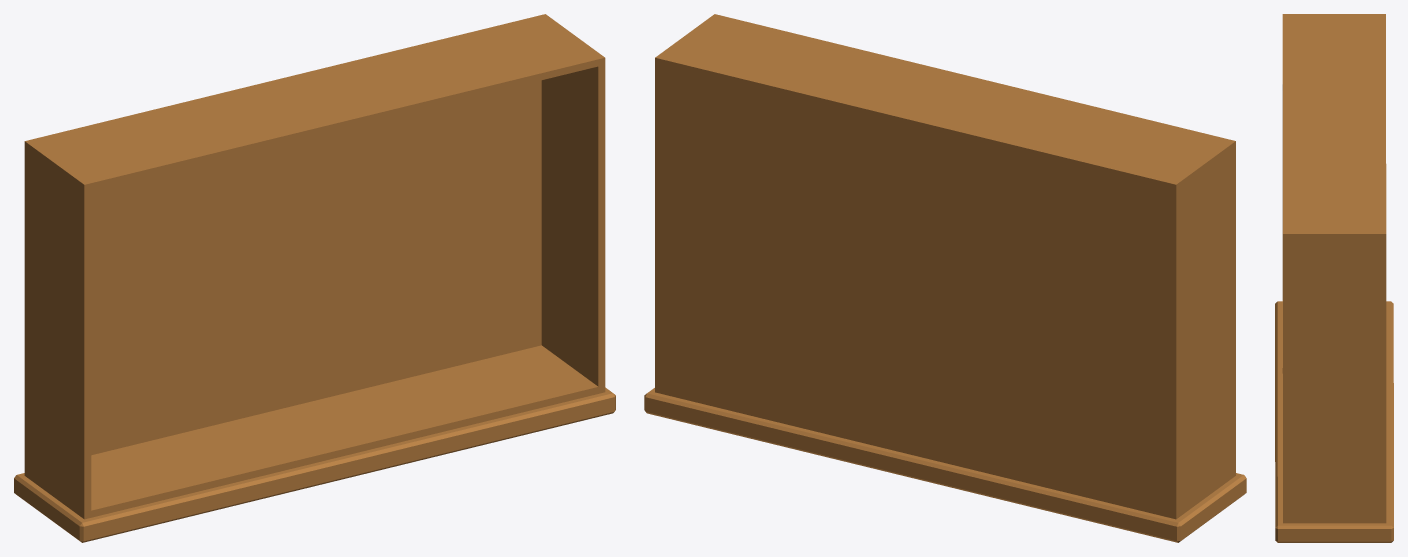
The model's file is DrawermeshDresserDrawer_315_10_2.obj.
The picture shows the model from 3 angles, left to right: view 1: azimuth 30°, elevation 25°; view 2: azimuth 150°, elevation 25°; view 3: azimuth 270°, elevation 25°; orthographic projection. The views are drawn at different scales.
Visible parts, largest first — view 1: DresserDrawer_315_10; view 2: DresserDrawer_315_10; view 3: DresserDrawer_315_10.
Part boxes in pixels (<box>): DresserDrawer_315_10: <box>14,14,615,542</box>; DresserDrawer_315_10: <box>644,14,1246,542</box>; DresserDrawer_315_10: <box>1275,14,1393,542</box>.
Bounding box in the file's own units: 0.7899 × 0.5169 × 0.1753.
